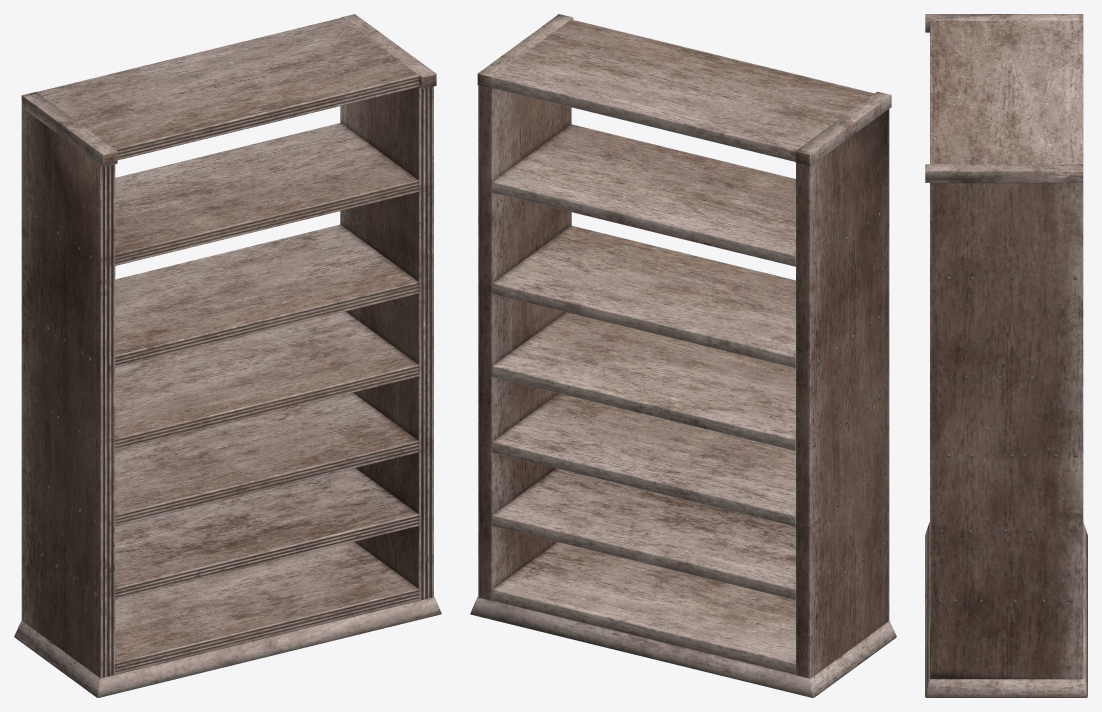
File: wooden_bookshelf_worn.269e79ca80.glb
3 renders of one model, left to right at view 1: azimuth 30°, elevation 25°; view 2: azimuth 150°, elevation 25°; view 3: azimuth 270°, elevation 25°, orthographic. The views are drawn at different scales.
Parts seen in each view (by area): view 1: wooden_bookshelf_worn; view 2: wooden_bookshelf_worn; view 3: wooden_bookshelf_worn.
Boxes of the visible parts, x1,y1,x2,y2 form: wooden_bookshelf_worn: [14, 14, 441, 697]; wooden_bookshelf_worn: [470, 14, 896, 697]; wooden_bookshelf_worn: [925, 14, 1087, 697].
Bounding box in the file's own units: 1.37 × 2.06 × 0.5814.
1 material, 1 textured.
